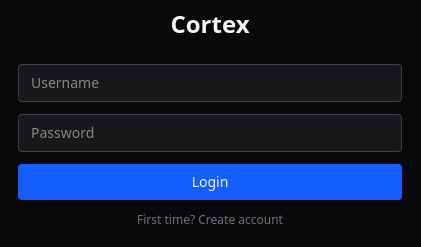
Scenario: Login › toggles to setup mode
Click the button "First time? Create account". click: {"x": 210, "y": 220}
box: left=18, top=212, right=402, bottom=228
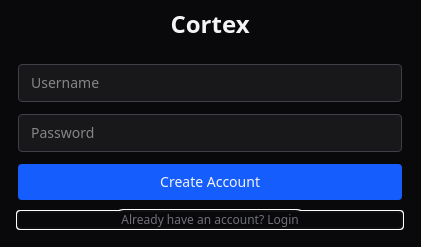
Expected: the button "Create Account" is shown, left=18, top=164, right=402, bottom=200
Expected: the button "Already have an account? Login" is shown, left=18, top=212, right=402, bottom=228
